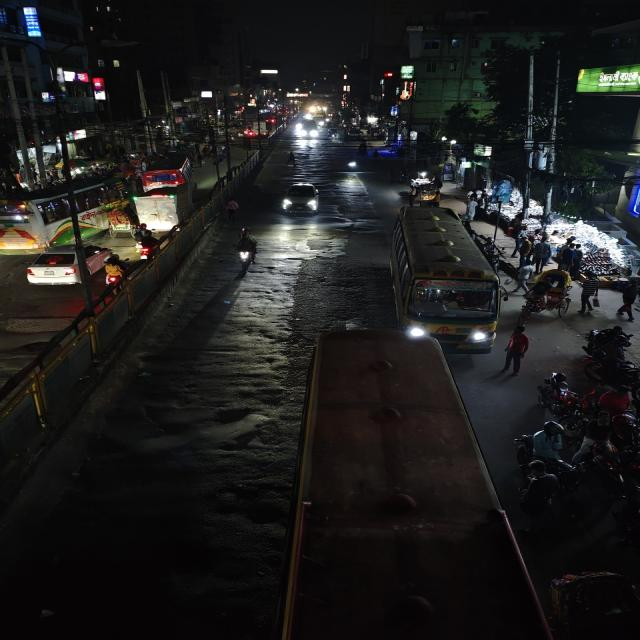bus: (292, 328, 522, 640), (386, 205, 504, 351), (0, 172, 131, 250)
car: (545, 566, 640, 640), (25, 240, 116, 288), (277, 180, 323, 218)
motorcycle: (584, 413, 640, 475), (581, 326, 639, 382), (538, 371, 588, 419), (231, 227, 262, 274), (131, 227, 164, 261), (101, 254, 130, 290), (345, 157, 358, 171)
pedestrian: (500, 324, 534, 375), (576, 267, 604, 314), (617, 278, 640, 324), (530, 234, 551, 274)
rickshaw: (520, 276, 572, 320)
truck: (134, 183, 196, 235)
